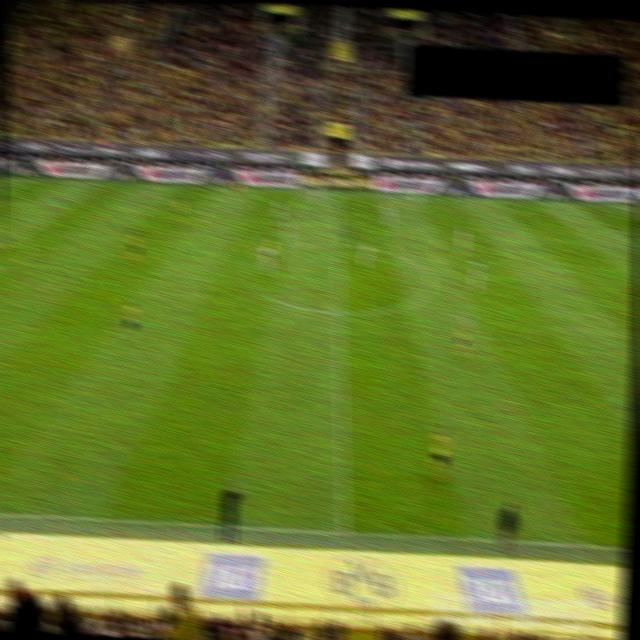bigarea_top_inner: (604, 224, 625, 239), (54, 198, 72, 212)
halfcircle_bottom: (330, 304, 348, 318)
halfcircle_top: (330, 237, 346, 249)
midline_bottom_intersection: (334, 522, 355, 539)
midline_top_intersection: (328, 186, 344, 198)
top_arc_area_intersection: (10, 226, 27, 239)
